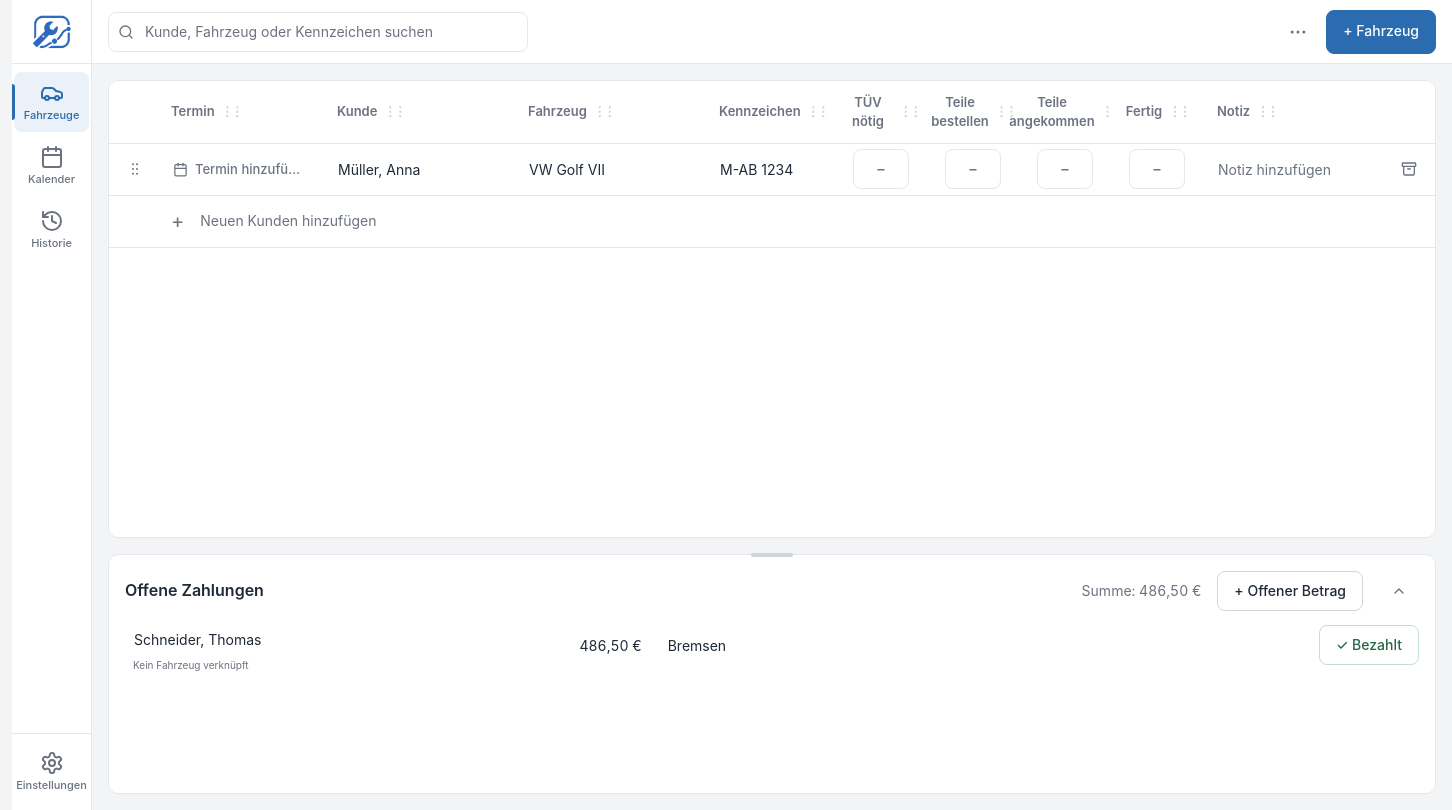
Test: Versteckter Bereich: Einträge › übernimmt Kundennamen über dasselbe Autofill wie offene Zahlungen
Expected: the field showing "Müller, Anna" is shown, x1=329 y1=149 x2=508 y2=189
Press the mouse on the element with class "app-logo" at (52, 32), box x1=32 y1=12 x2=72 y2=52
Wait 3000 ms
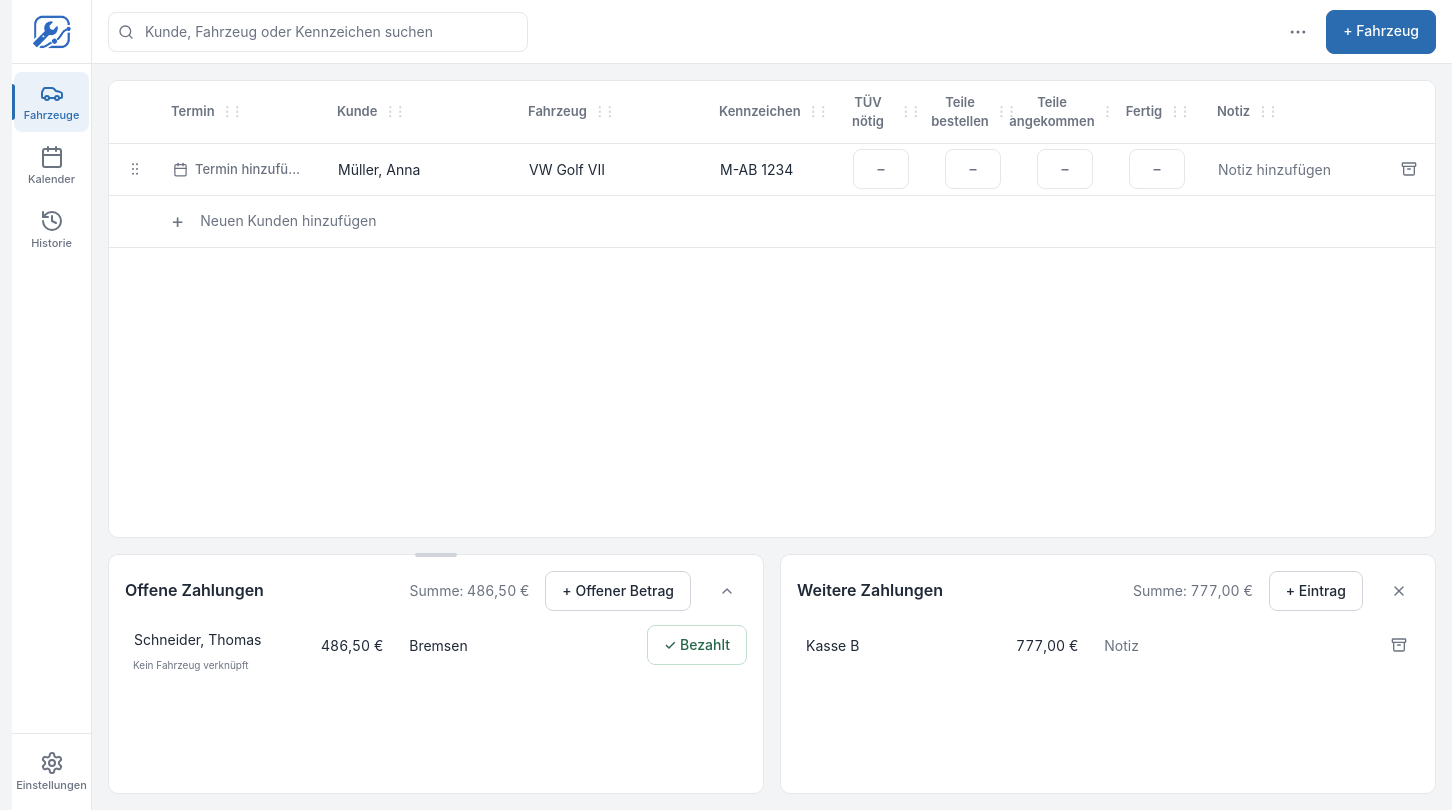
Result: the element "Weitere Zahlungen" is shown at x1=780 y1=554 x2=1436 y2=794
Click the button "+ Eintrag".
click(1316, 591)  # box x1=1269 y1=571 x2=1363 y2=611
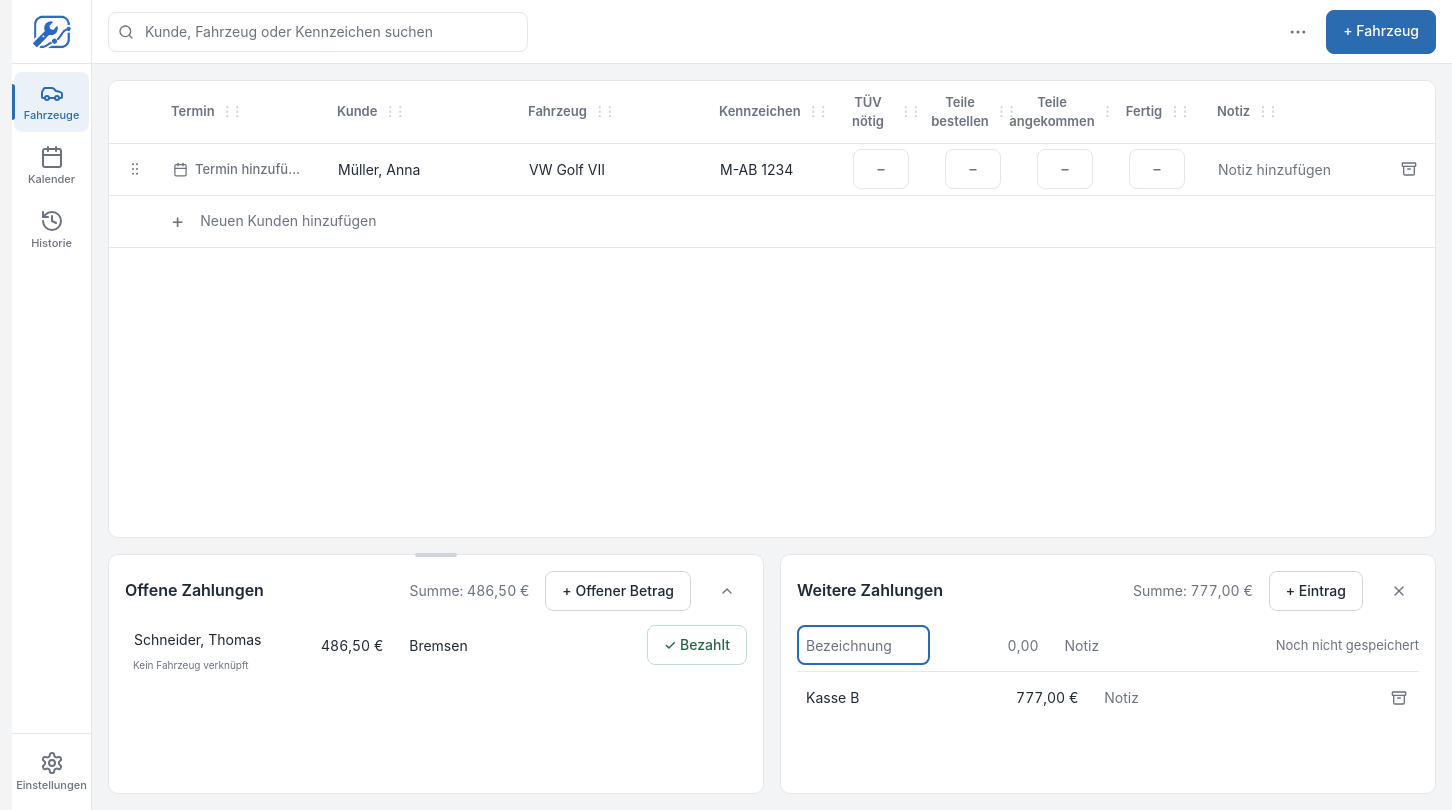
Type "Mül" into the dropdown named "Bezeichnung (Neuer Eintrag)".
click(863, 645); type("Mül")  # box x1=797 y1=625 x2=930 y2=665
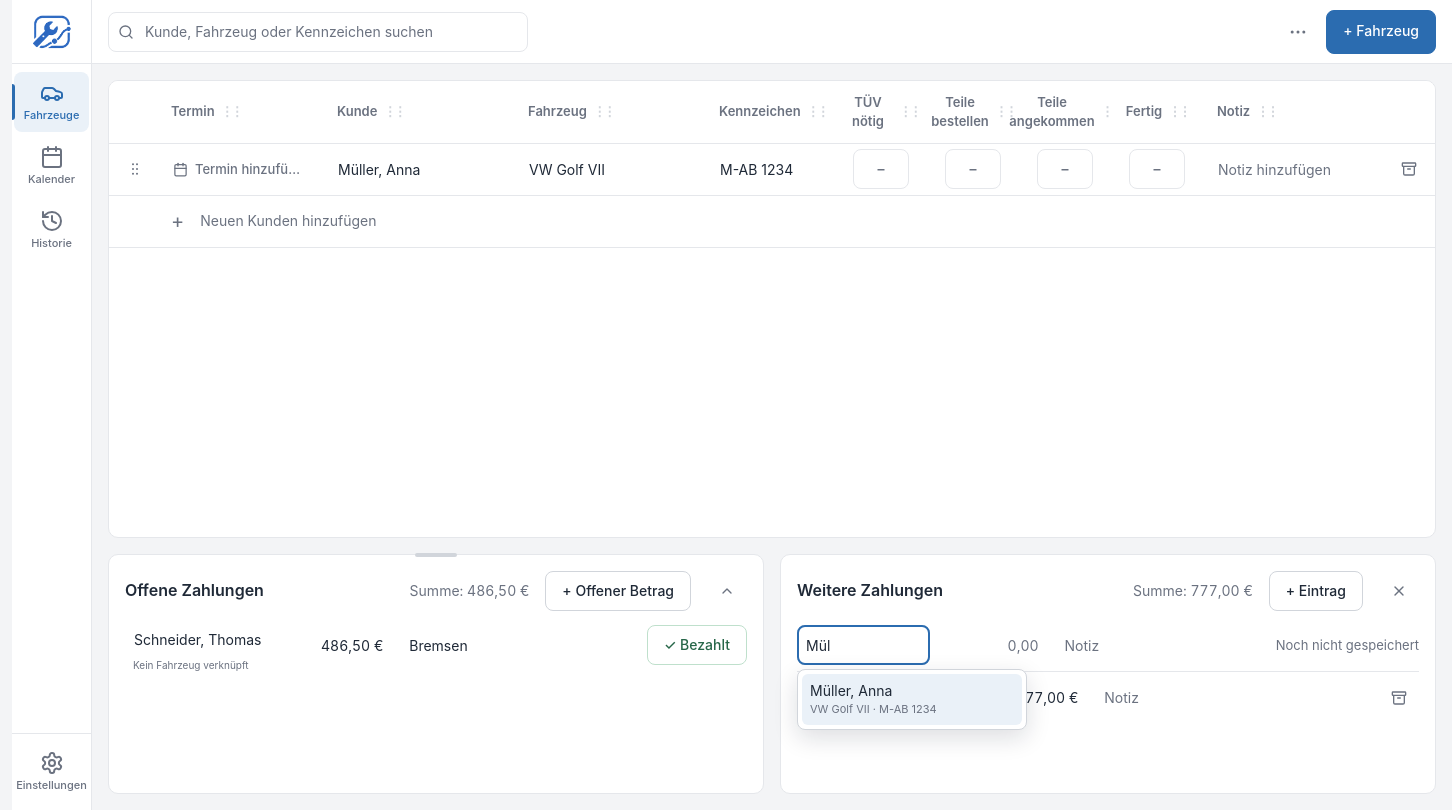
Press the mouse on the option "Müller, Anna VW Golf VII · M-AB 1234" at (912, 700), box x1=802 y1=674 x2=1022 y2=725
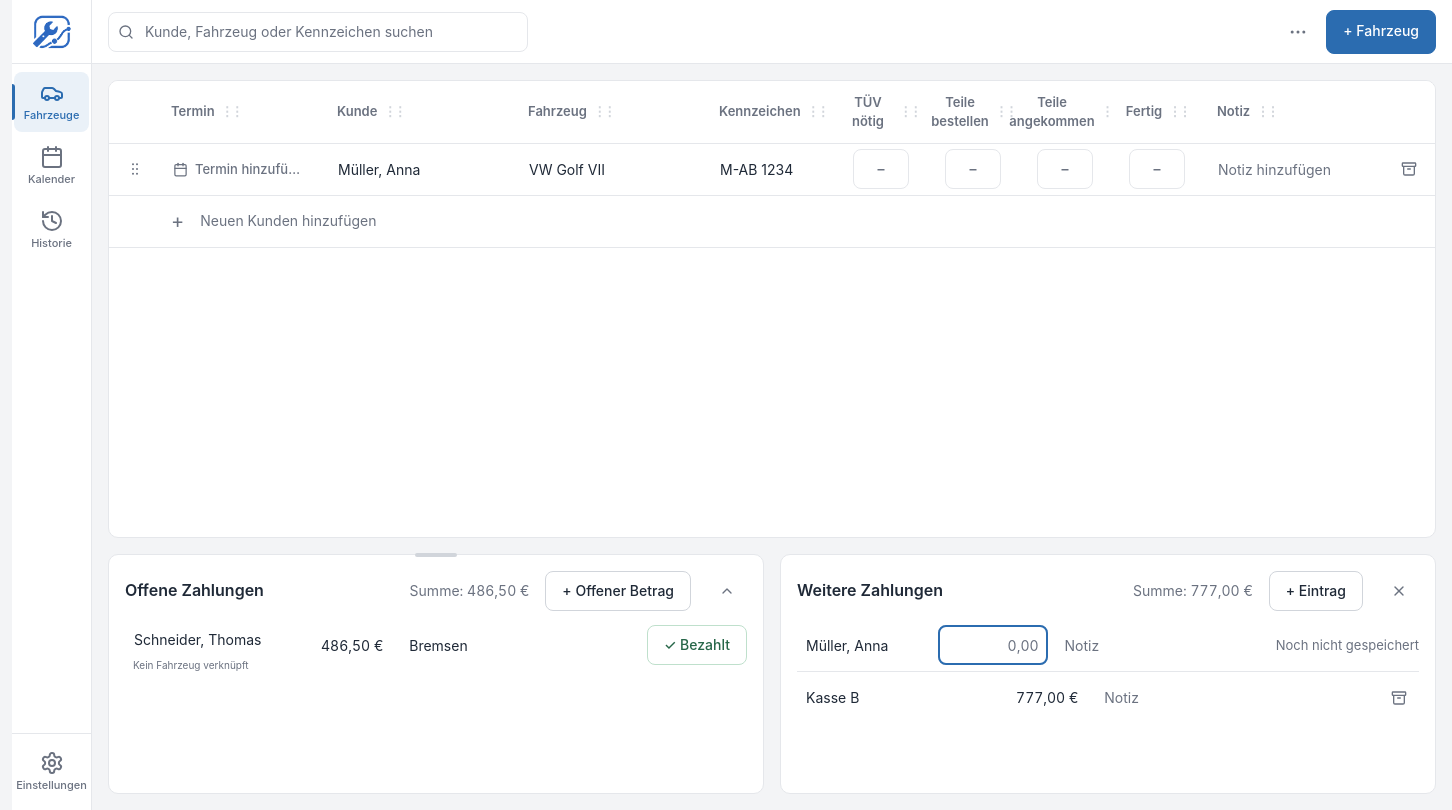
Result: the dropdown named "Bezeichnung (Neuer Eintrag)" holds "Müller, Anna" at x1=797 y1=625 x2=930 y2=665
